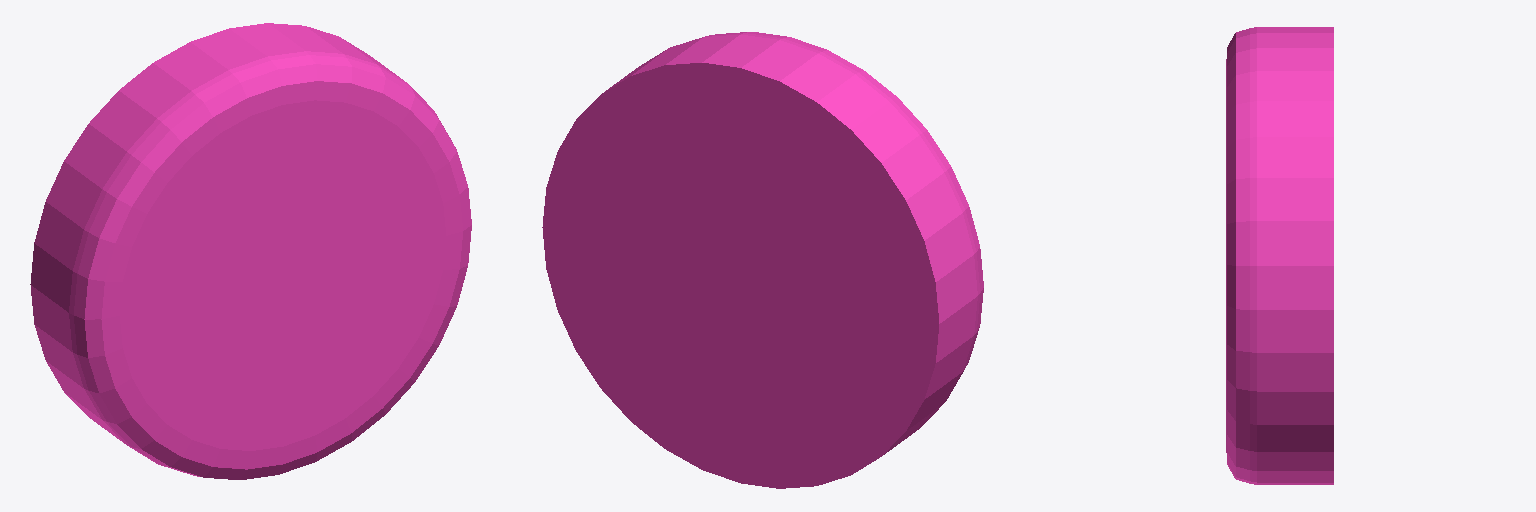
3 views of the same model, side by side, from view 1: azimuth 30°, elevation 25°; view 2: azimuth 150°, elevation 25°; view 3: azimuth 270°, elevation 25° (orthographic).
Visible parts, largest first — view 1: pink_button; view 2: pink_button; view 3: pink_button.
Boxes of the visible parts, x1=… form: pink_button: x1=30, y1=23, x2=471, y2=479; pink_button: x1=542, y1=32, x2=983, y2=488; pink_button: x1=1226, y1=27, x2=1333, y2=484.
Size of the model in its own units: 0.8951 by 0.8951 by 0.2111.
Materials: 2 (1 with a texture image).